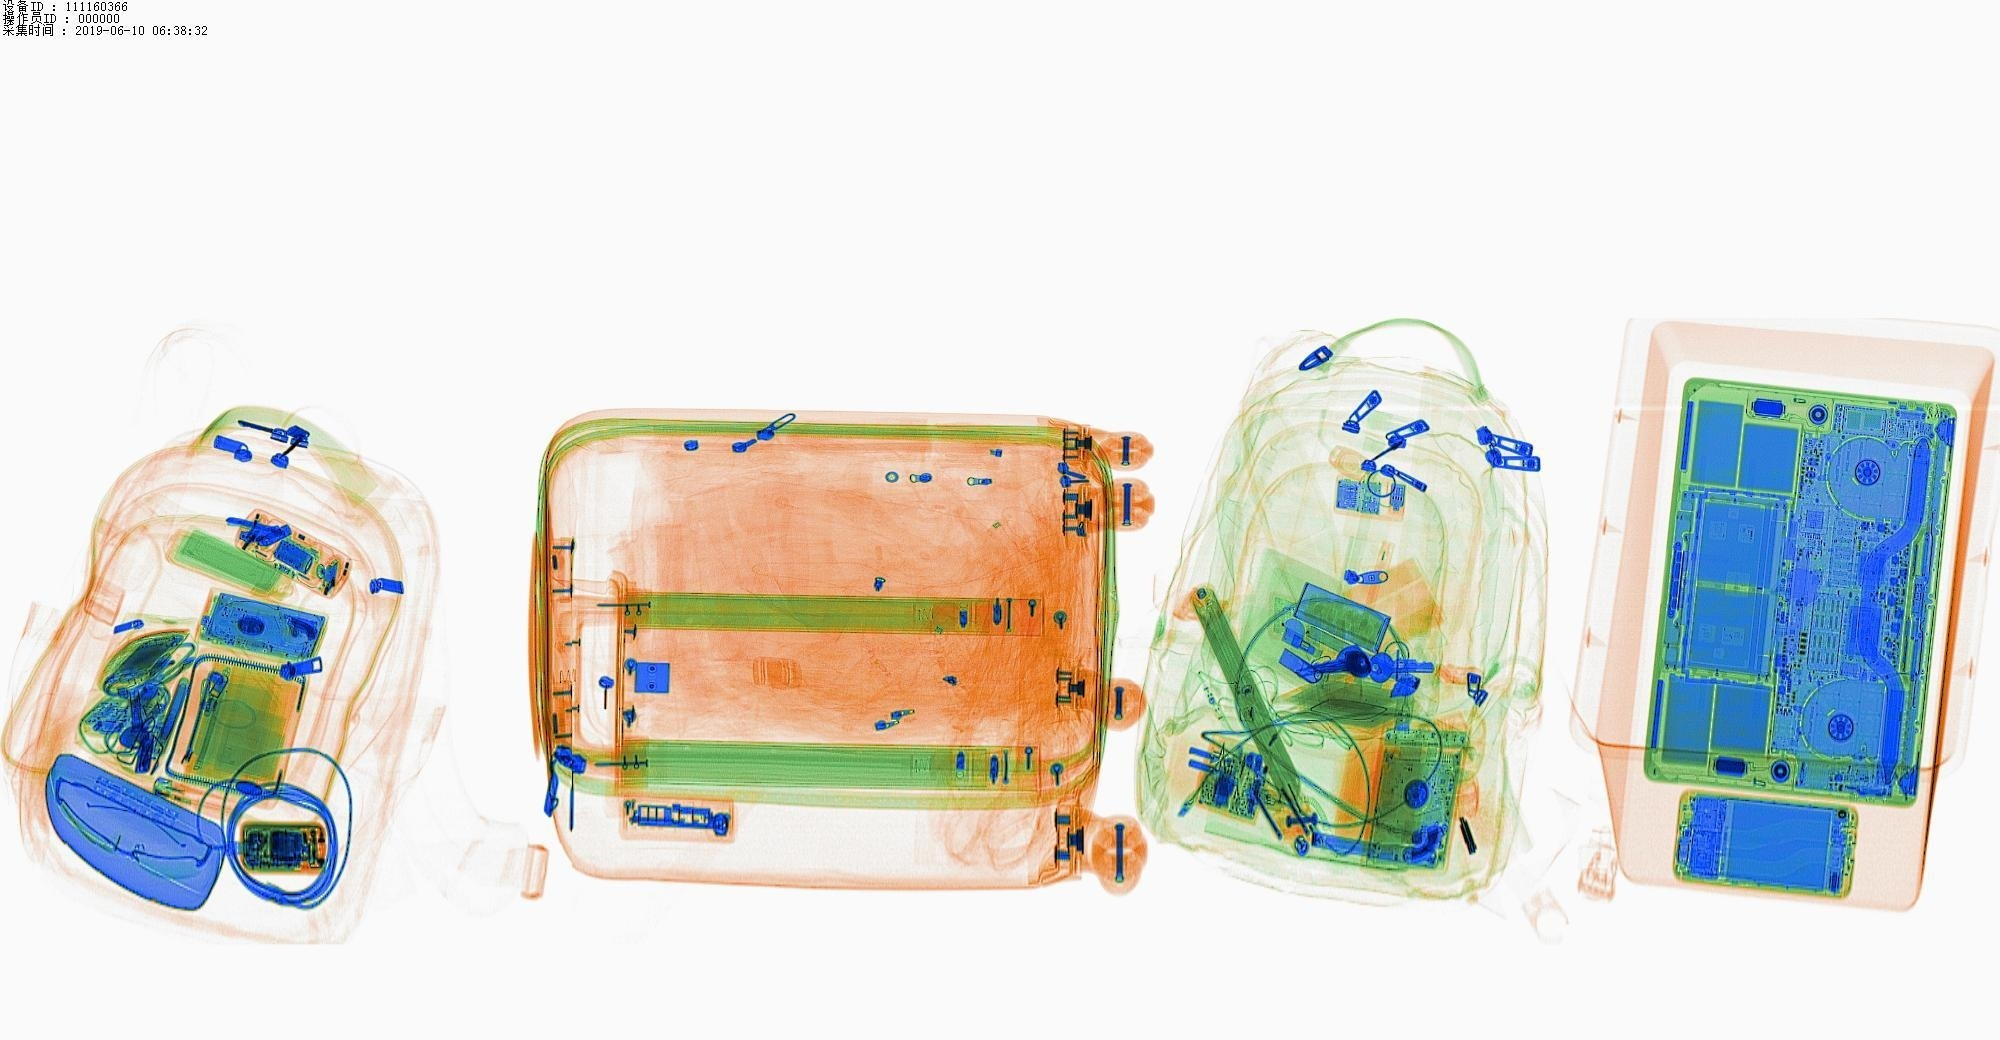NonmetallicFire: (132, 767, 265, 830)
